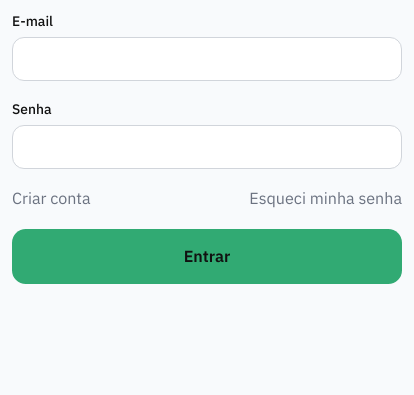
Test: LoginForm › shows a translated error instead of the raw Supabase message
Type "pedro@example.com" into the field labelled "E-mail" at x=207, y=59, box [12,37,402,81]
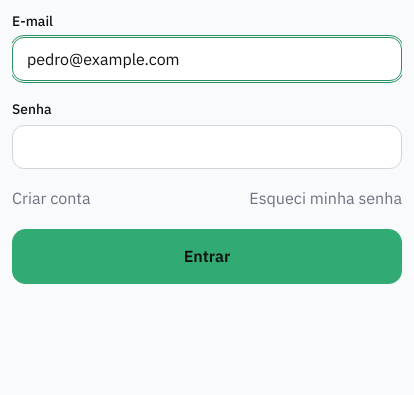
Type "senha-errada" into the password field labelled "Senha" at x=207, y=147, box [12,125,402,169]
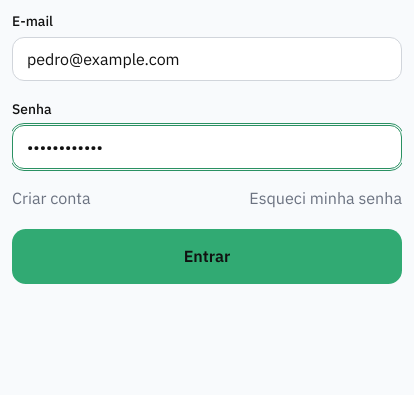
Click the button "Entrar" at x=207, y=256, box [12,229,402,284]
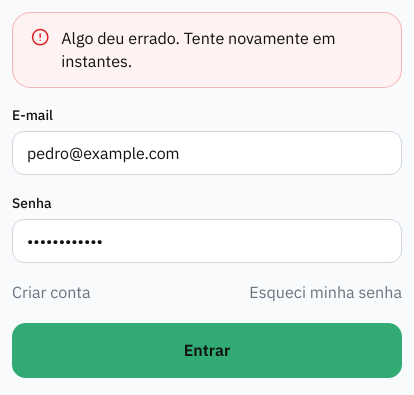
Expected: the text "Algo deu errado. Tente novamente em instantes." is shown, [61,27,383,73]
